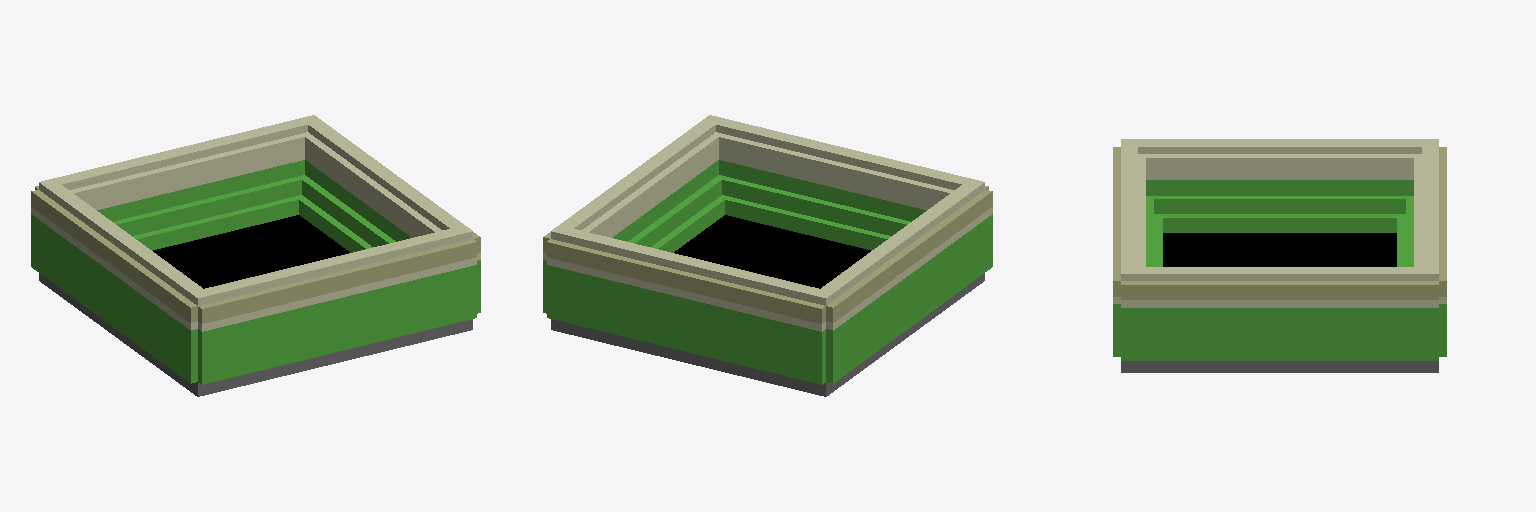
The picture shows the model from 3 angles: view 1: azimuth 30°, elevation 25°; view 2: azimuth 150°, elevation 25°; view 3: azimuth 270°, elevation 25°; orthographic projection.
Visible parts, largest first — view 1: object 1; view 2: object 1; view 3: object 1.
Part boxes in pixels (bbox=[...]): object 1: bbox=[31, 115, 480, 396]; object 1: bbox=[543, 115, 992, 396]; object 1: bbox=[1113, 139, 1446, 372].
Size of the model in its own units: 4 by 1.3 by 4.
1 materials, 1 textured.